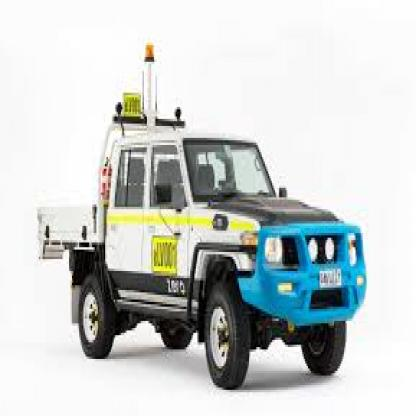light_vehicle: (27, 60, 380, 414)
